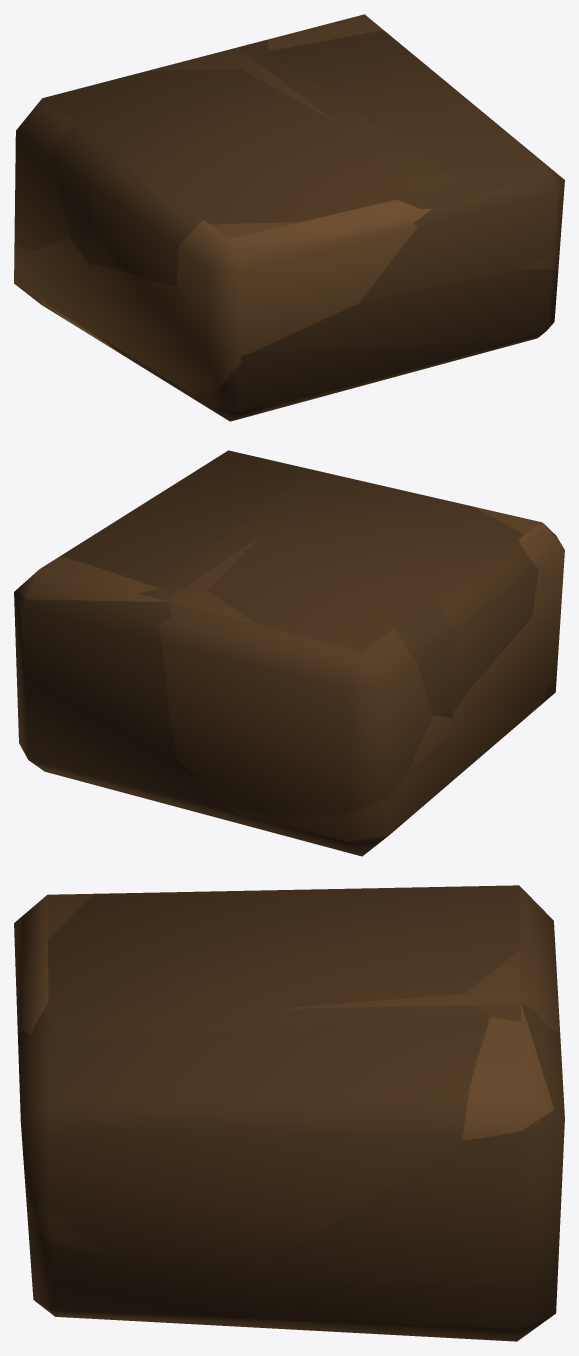
The model's file is Turba2.fbx.
3 renders of one model, top to bottom at view 1: azimuth 30°, elevation 25°; view 2: azimuth 150°, elevation 25°; view 3: azimuth 270°, elevation 25°, orthographic. The views are drawn at different scales.
Parts seen in each view (by area): view 1: Turba.001; view 2: Turba.001; view 3: Turba.001.
Part boxes in pixels (<box>): Turba.001: <box>14,14,564,421</box>; Turba.001: <box>14,450,564,856</box>; Turba.001: <box>14,885,564,1341</box>.
Size of the model in its own units: 96.52 by 51.54 by 95.38.
1 material, 1 textured.
